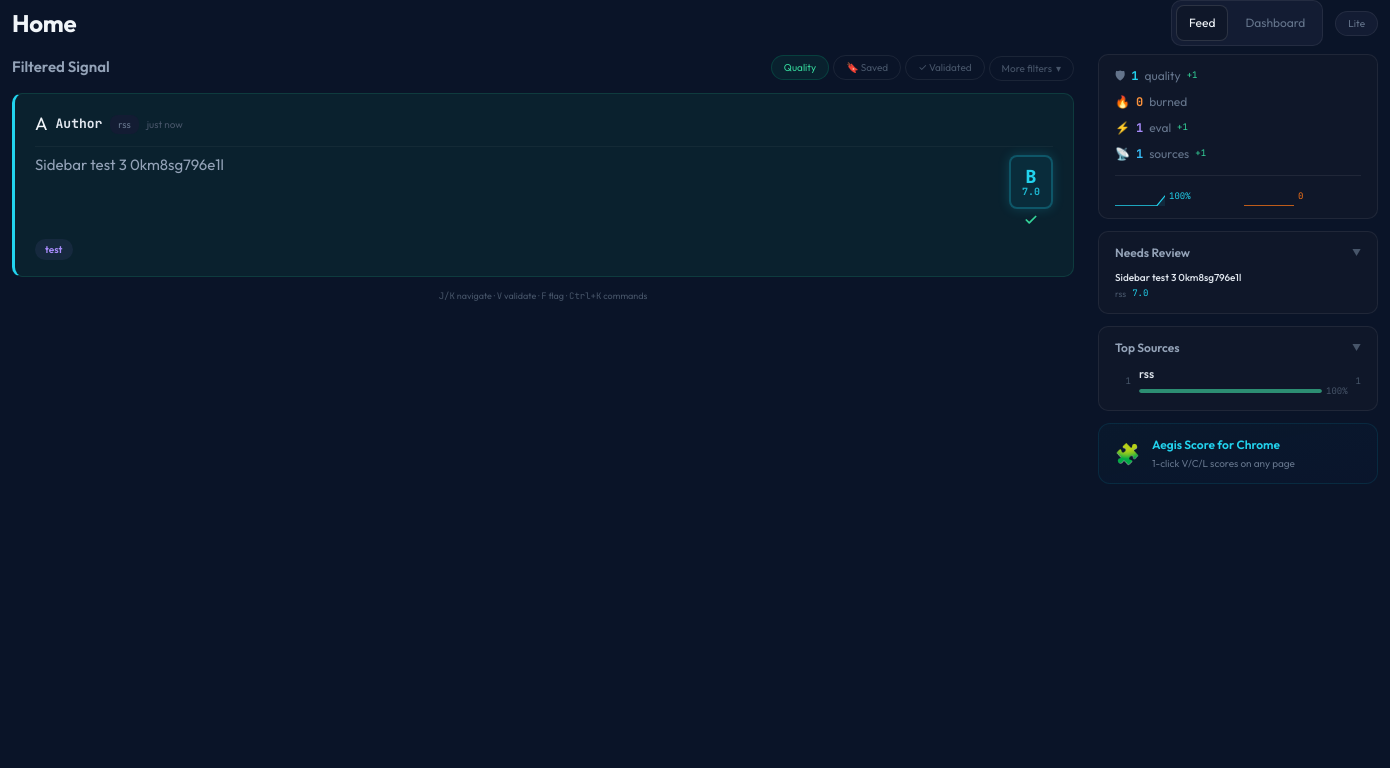
Test case: DashboardTab — Sidebar layout › sidebar disappears when switching to dashboard mode
Expected: the element with test id "aegis-feed-sidebar" is shown, [1098, 54, 1378, 484]
Click the button with test id "aegis-home-mode-dashboard" at (1275,23), box [1232, 5, 1318, 41]
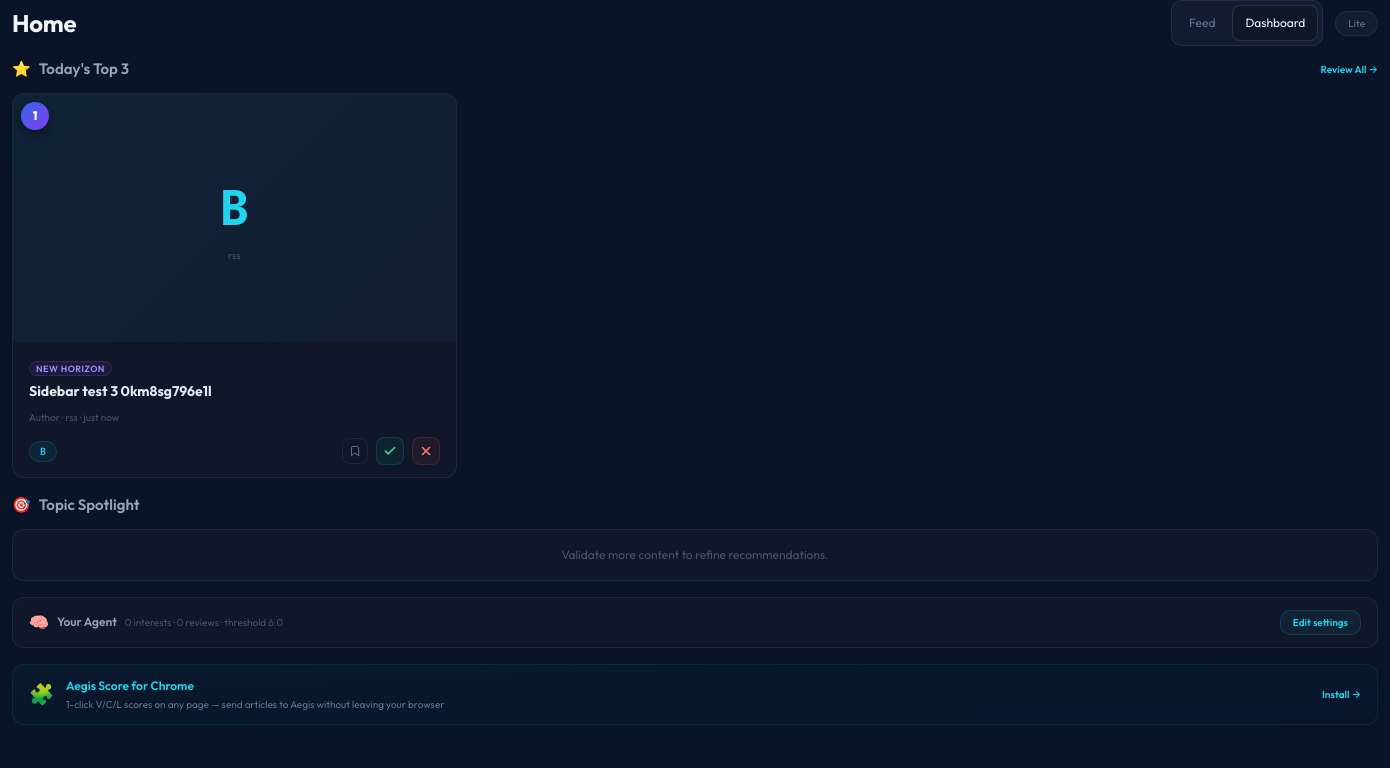
Result: the element with test id "aegis-feed-sidebar" is gone
